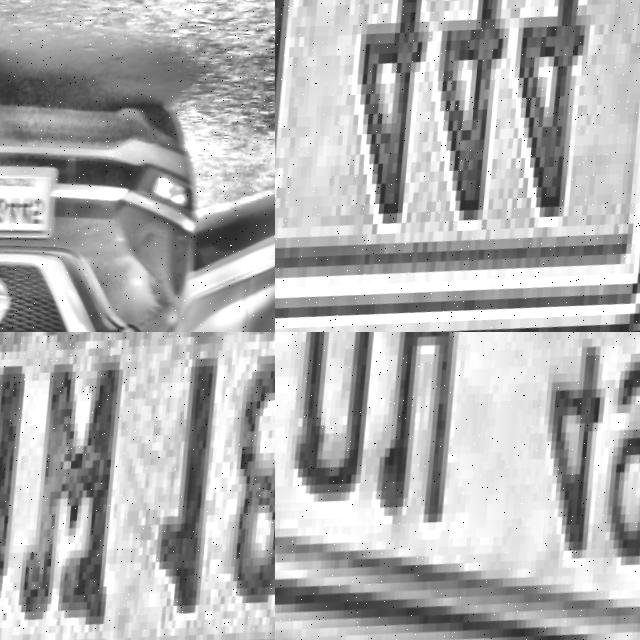license-plate: (275, 0, 640, 332), (275, 332, 640, 640), (0, 332, 275, 640), (0, 153, 60, 254)
